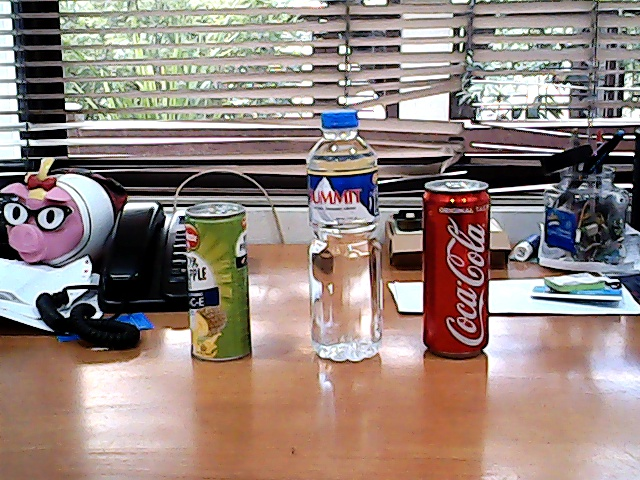Cola: (414, 163, 505, 373)
Pine Juice: (178, 192, 261, 375)
Summit Water: (296, 92, 398, 377)
